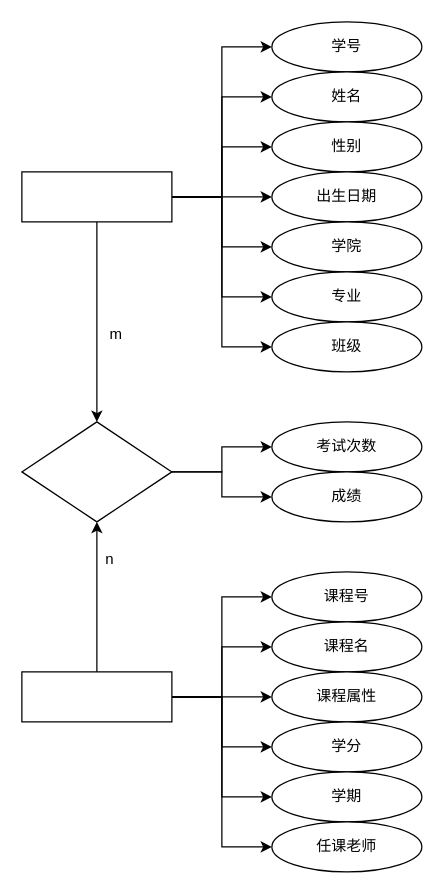
This 444x894 diagram has some shape labels left out. The centre of each missing label's shape, as x and y in pixels:
"学生" goes at point (96, 196).
"课程" goes at point (96, 696).
"选修" goes at point (96, 471).
